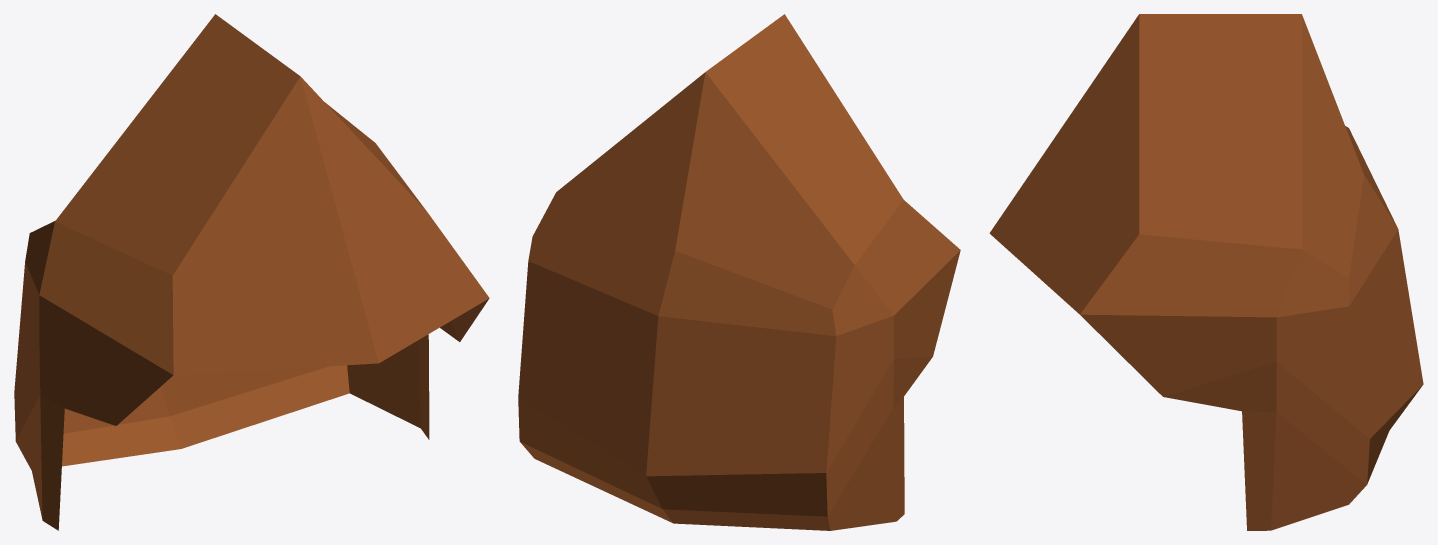
The picture shows the model from 3 angles, left to right: view 1: azimuth 30°, elevation 25°; view 2: azimuth 150°, elevation 25°; view 3: azimuth 270°, elevation 25°; orthographic projection. The views are drawn at different scales.
Visible parts, largest first — view 1: Hair; view 2: Hair; view 3: Hair.
Boxes of the visible parts, box(x1,y1,x2,y2) form: Hair: box(14, 14, 489, 530); Hair: box(518, 14, 960, 530); Hair: box(989, 14, 1423, 530).
Bounding box in the file's own units: 1.8 × 2.08 × 1.87.
1 material, 1 textured.
